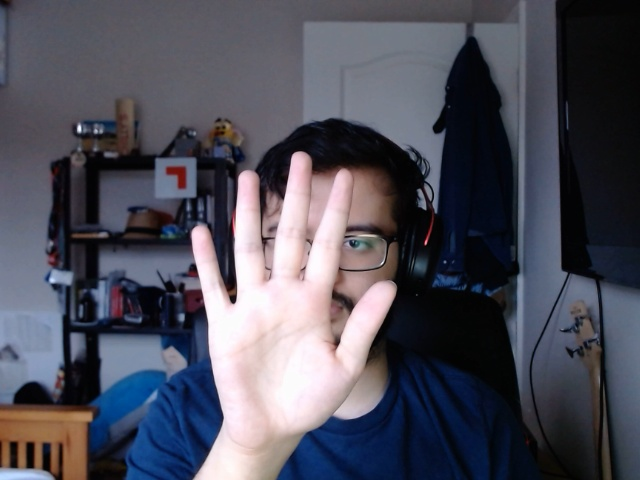Hello: (172, 147, 411, 446)
